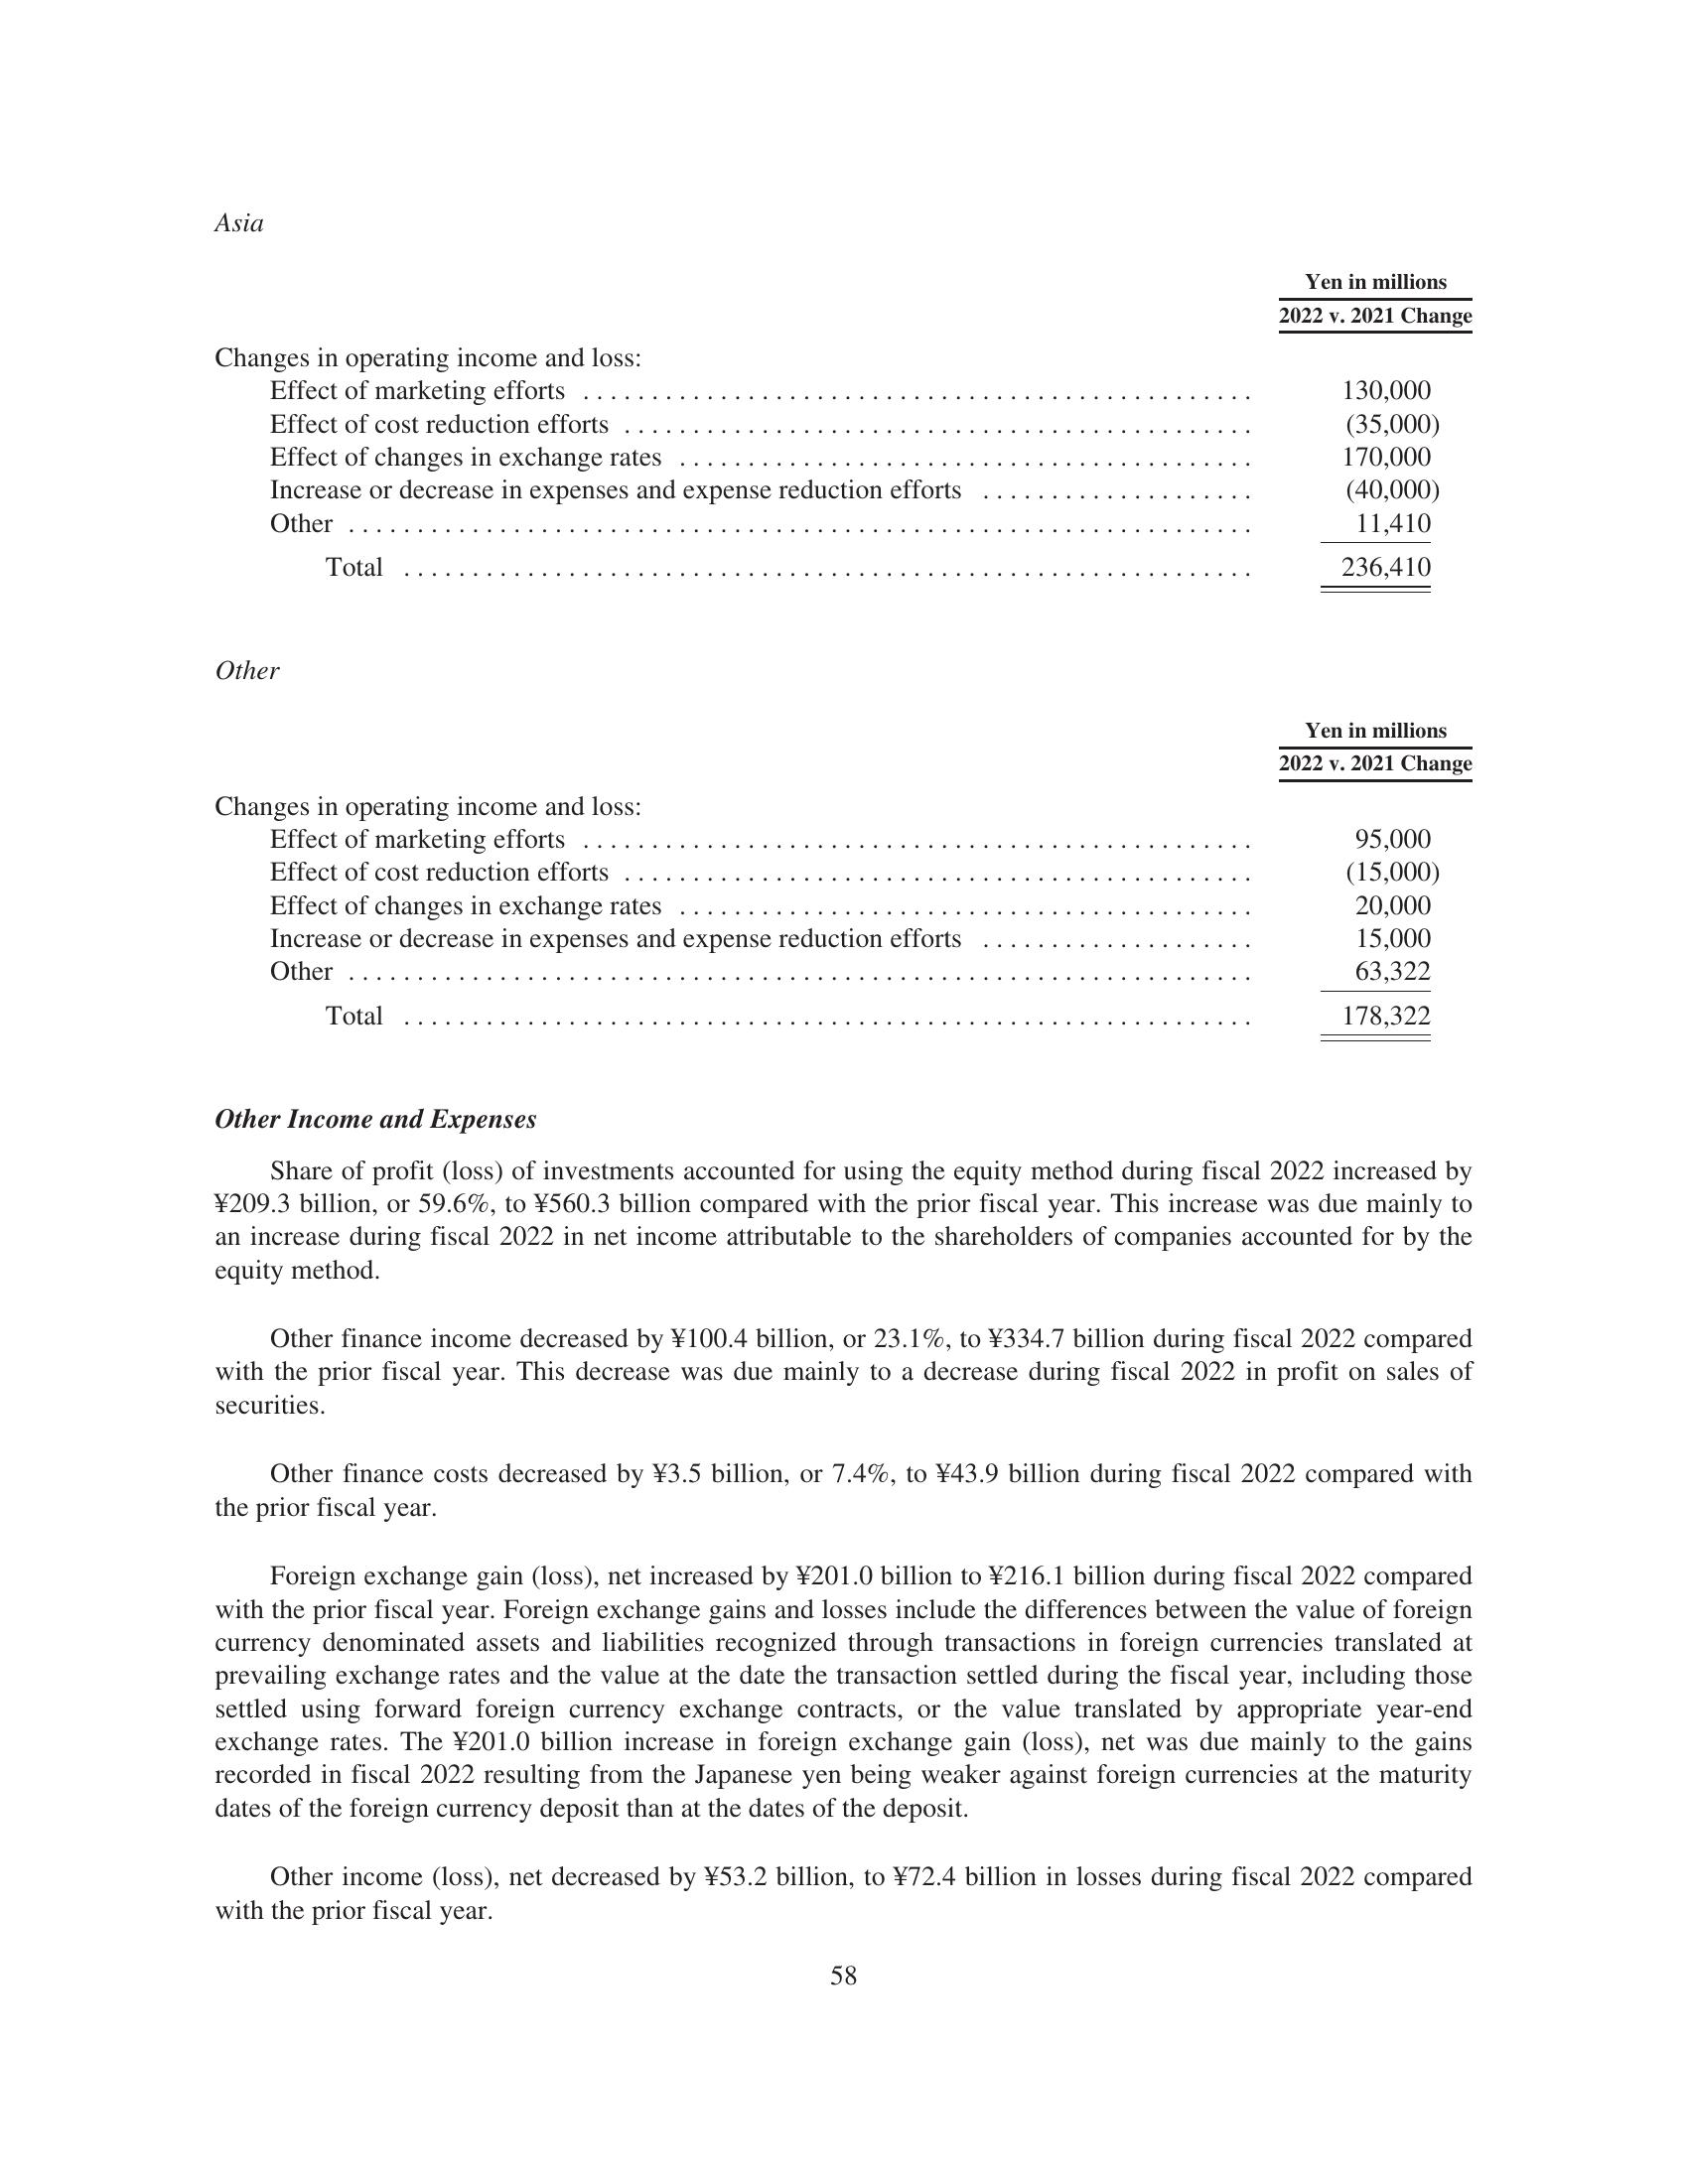Footer: (2, 1946, 1688, 2184)
Header: (0, 0, 1688, 191)
Table: (112, 707, 1495, 1069), (137, 264, 1475, 596)
